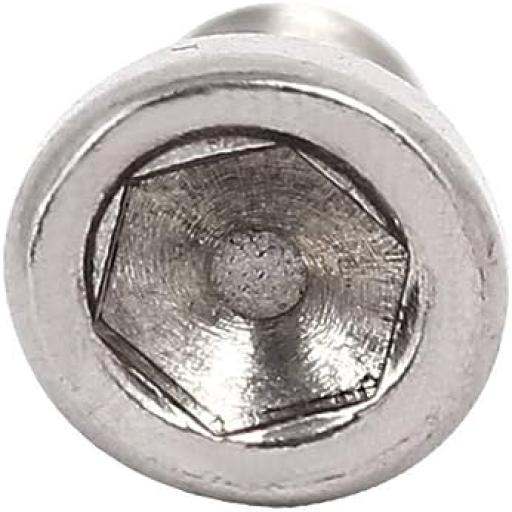Hex-Allen: (7, 32, 501, 505)
